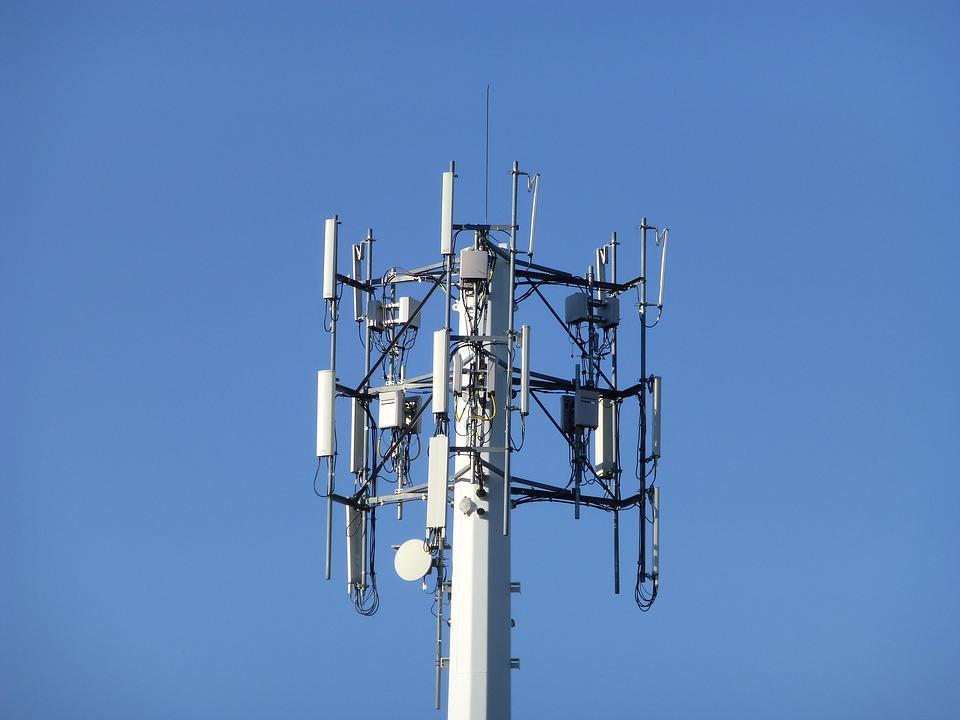a: (314, 367, 342, 500), (641, 486, 668, 593), (438, 160, 458, 274), (321, 215, 342, 318), (433, 328, 455, 426), (430, 433, 450, 538), (518, 322, 534, 421), (648, 377, 666, 463), (657, 228, 670, 313)
